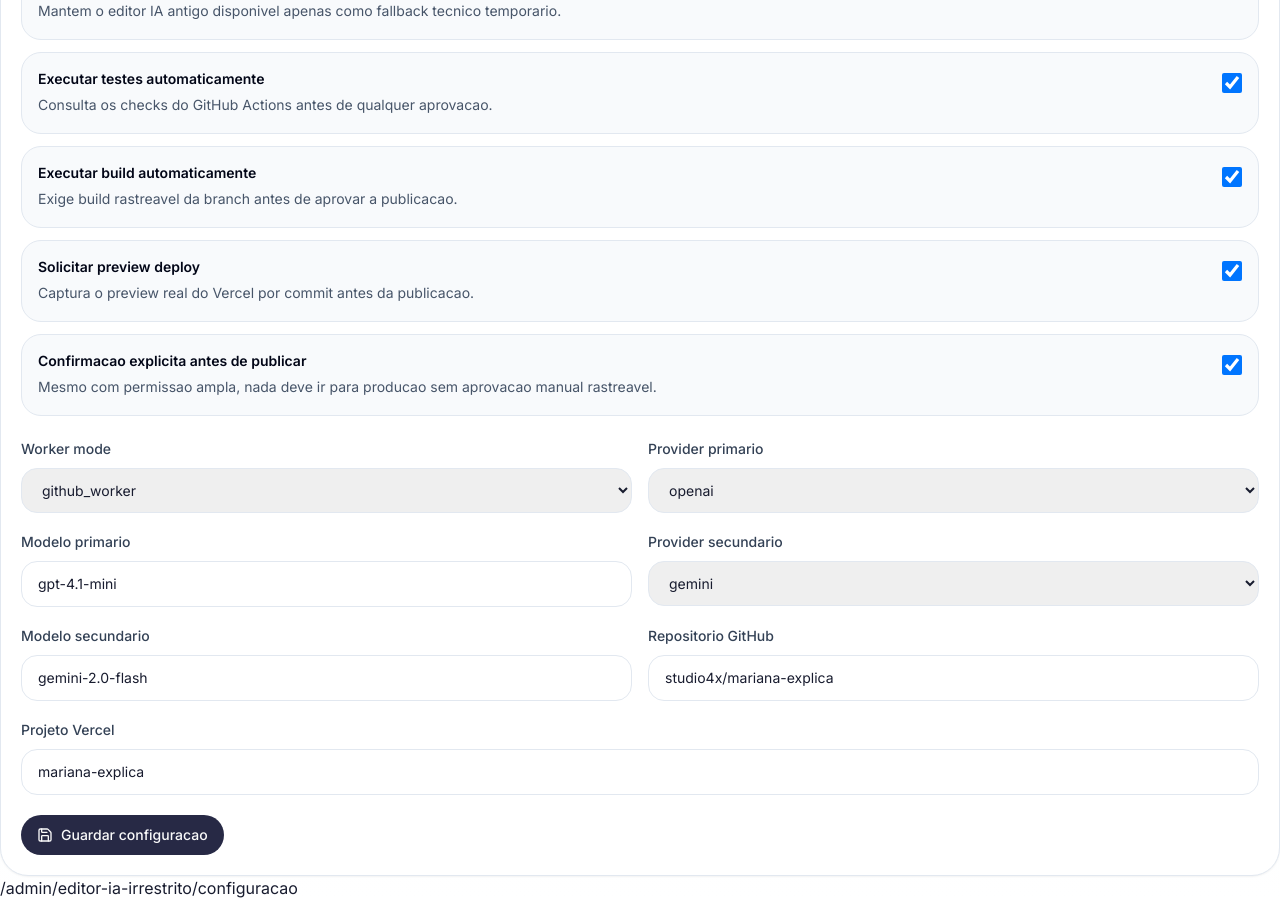
AdminAiCodeEditor › keeps configuration save working
(page scrolled)
Click the button "Guardar configuracao": (122, 834) [21, 814, 224, 854]
(page scrolled)
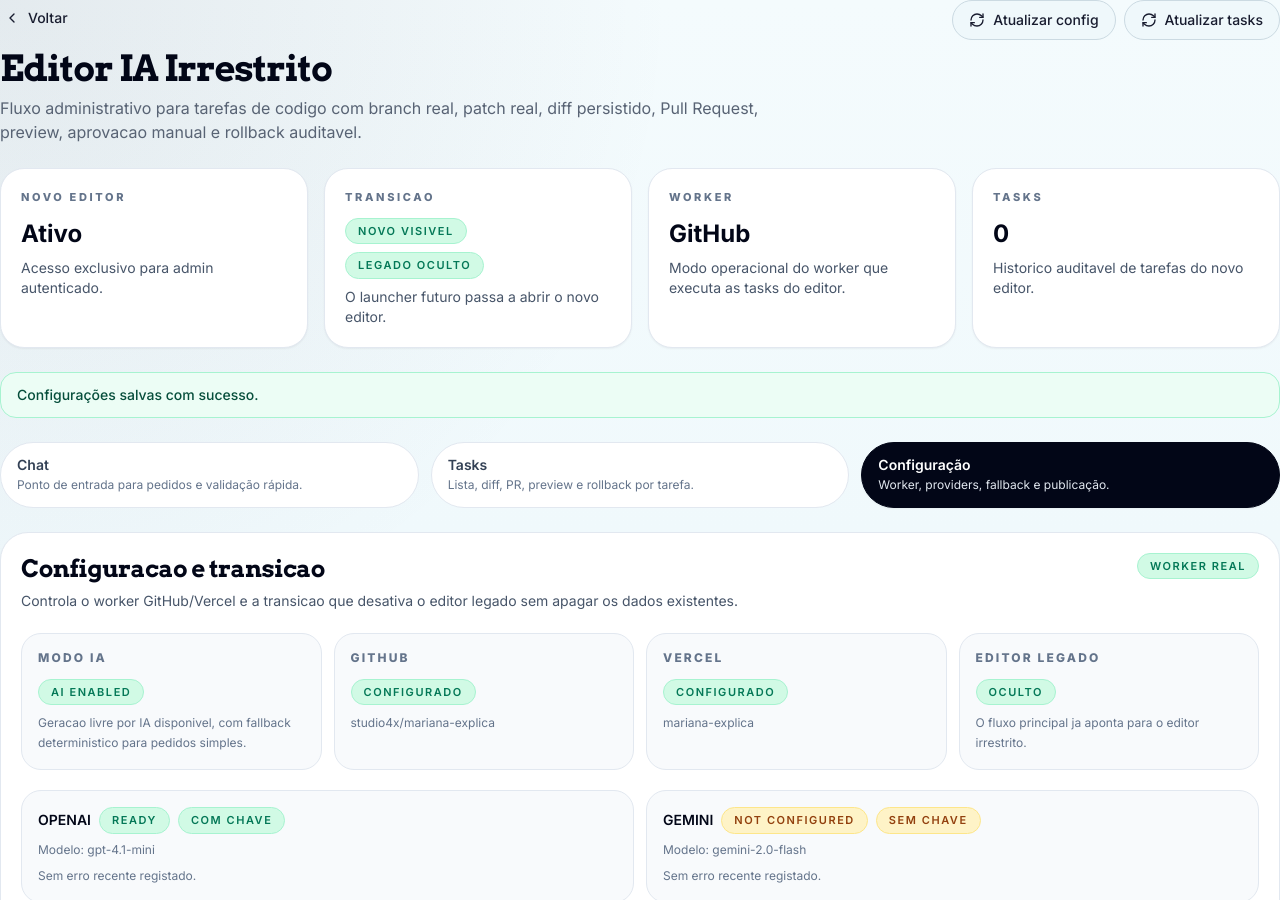
expect the text "Configurações salvas com sucesso." is shown: met, box [0, 372, 1279, 418]
